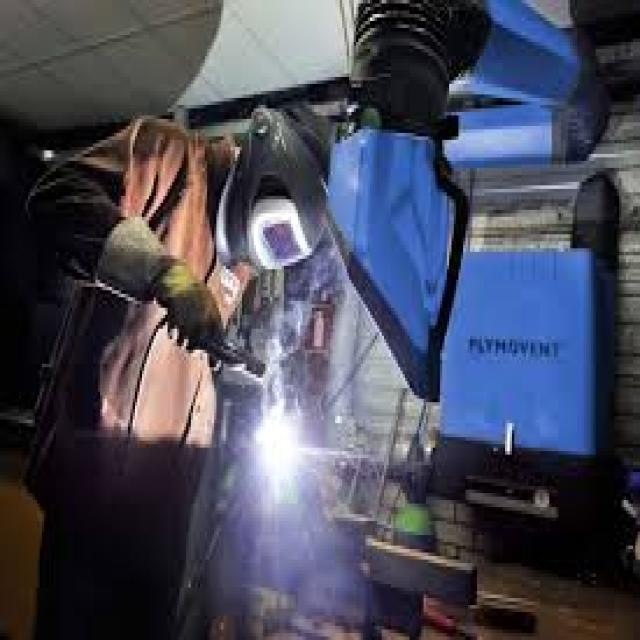welding: (252, 412, 300, 478)
